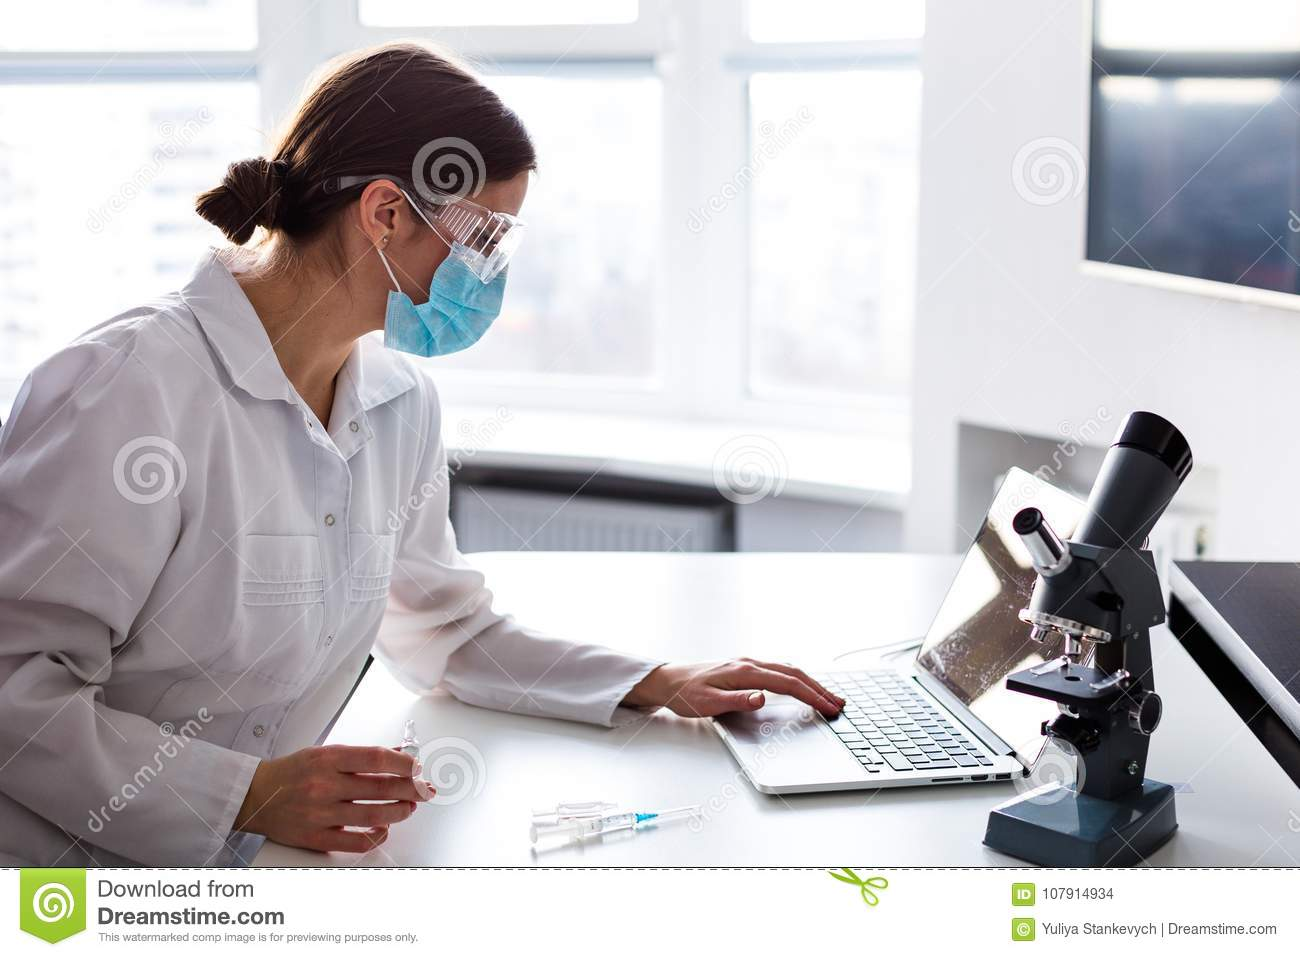mask: (395, 251, 522, 369)
